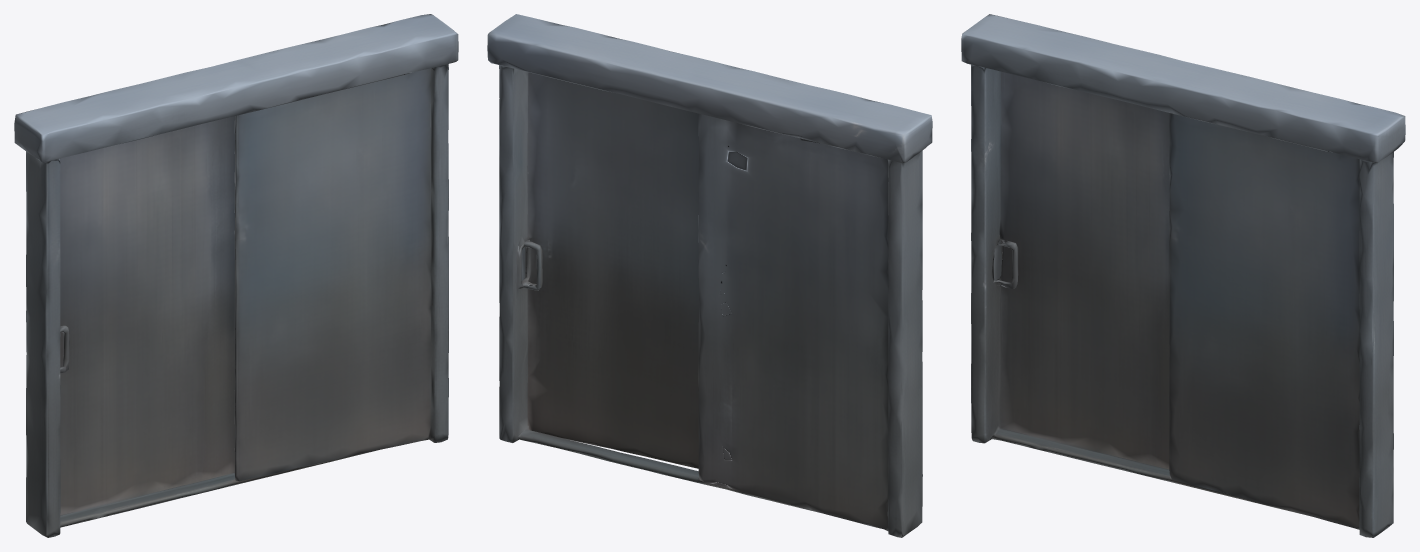
File: foyer_AutomaticDoors.glb
The picture shows the model from 3 angles, left to right: view 1: azimuth 30°, elevation 25°; view 2: azimuth 150°, elevation 25°; view 3: azimuth 330°, elevation 25°; orthographic projection.
Visible parts, largest first — view 1: world; view 2: world; view 3: world.
Boxes of the visible parts, bbox=[...] form: world: bbox=[14, 14, 458, 537]; world: bbox=[487, 14, 932, 537]; world: bbox=[961, 14, 1405, 537].
Size of the model in its own units: 1 by 0.9362 by 0.1199.
Materials: 1 (1 with a texture image).
